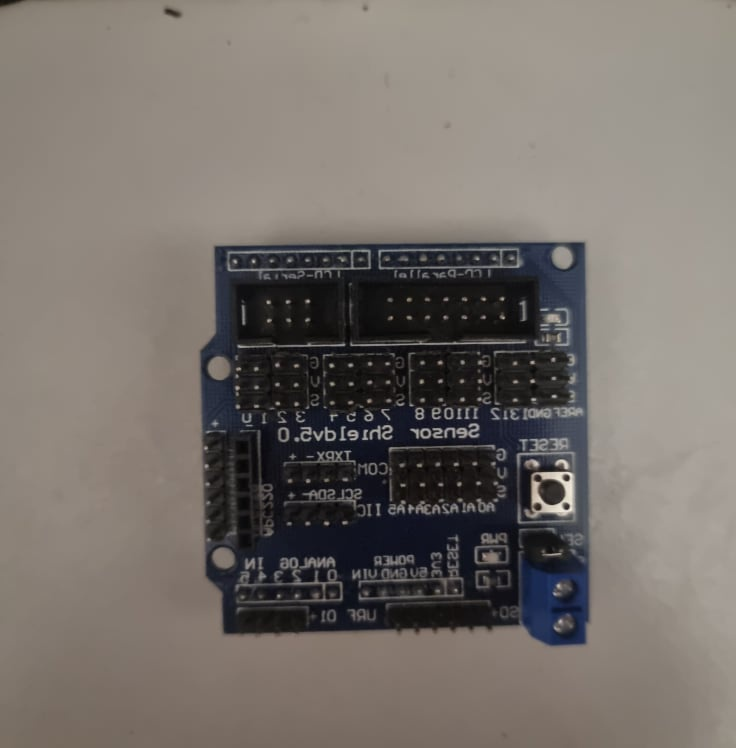5V EXPANSION: (206, 240, 592, 646)
